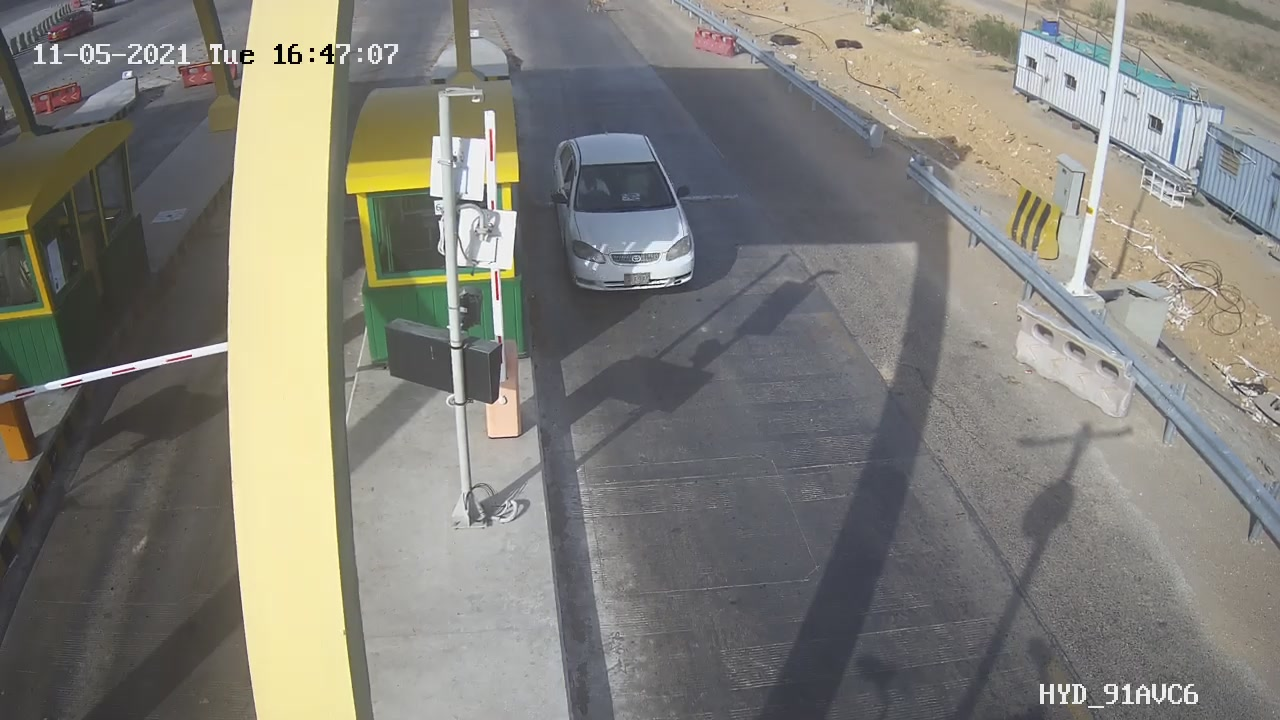F1: (535, 125, 713, 308)
